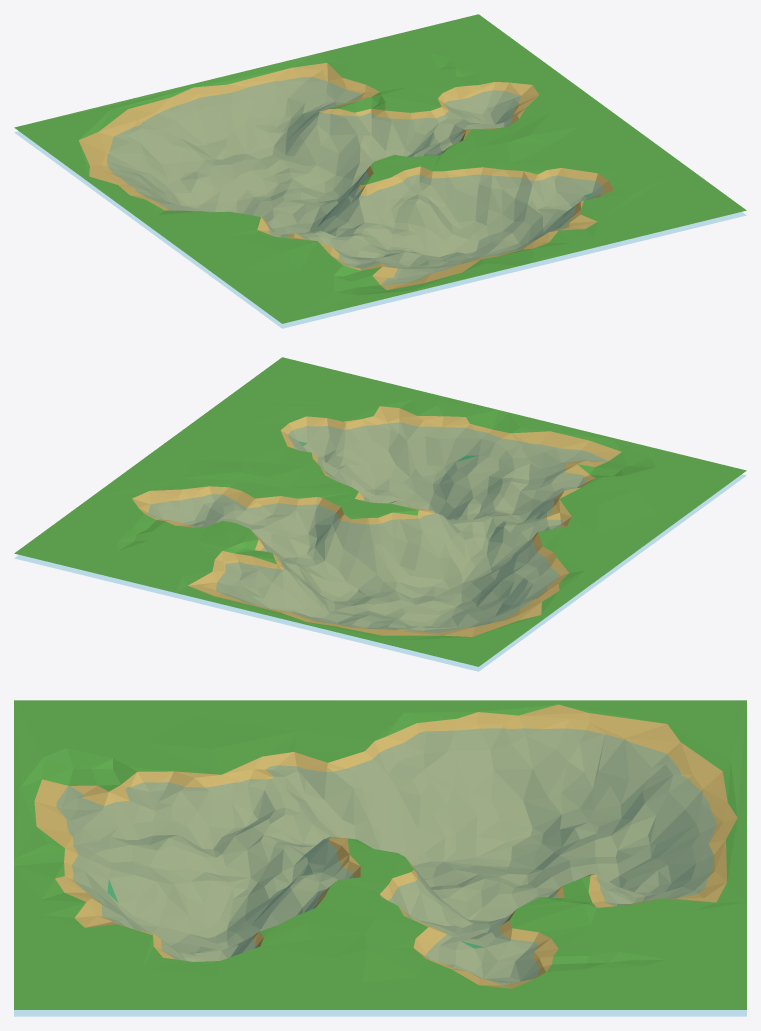
File: lake01.fbx
3 renders of one model, top to bottom at view 1: azimuth 30°, elevation 25°; view 2: azimuth 150°, elevation 25°; view 3: azimuth 270°, elevation 25°, orthographic. The views are drawn at different scales.
Visible parts, largest first — view 1: lake01, water.001; view 2: lake01, water.001; view 3: lake01, water.001.
Boxes of the visible parts, x1=… form: lake01: x1=14, y1=14, x2=746, y2=323; water.001: x1=15, y1=77, x2=745, y2=328; lake01: x1=14, y1=357, x2=746, y2=666; water.001: x1=15, y1=422, x2=745, y2=671; lake01: x1=14, y1=700, x2=746, y2=1009; water.001: x1=14, y1=728, x2=746, y2=1016.
Size of the model in its own units: 5000 by 591 by 5000.
